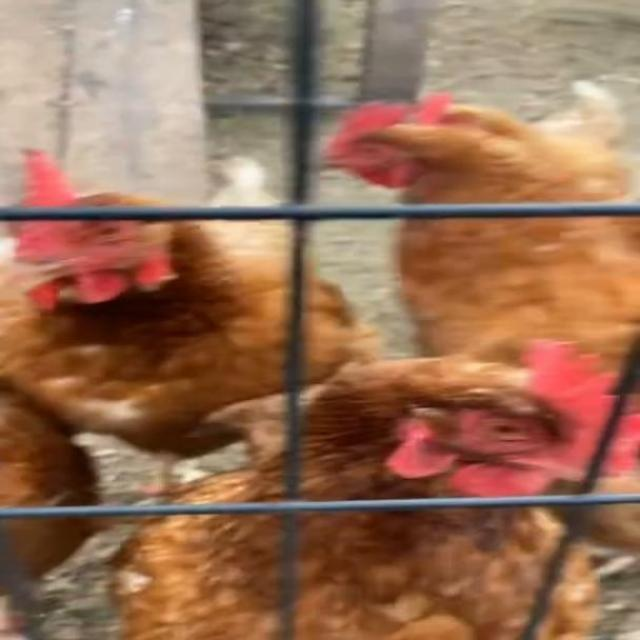Chicken: (106, 342, 640, 640), (0, 145, 372, 494), (316, 80, 640, 392), (0, 370, 105, 640)
